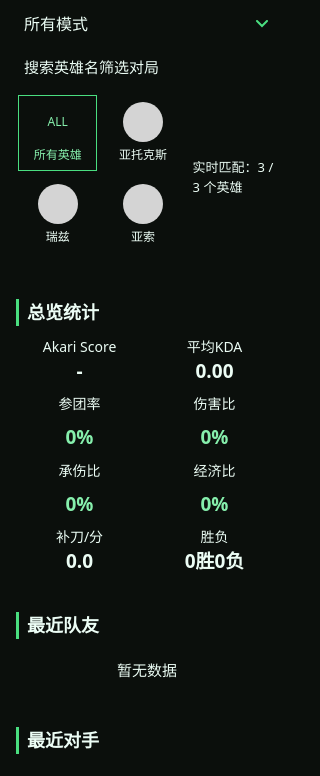
Test: SidebarPanel 英雄筛选磁贴墙 › 输入本名（亚托克斯）同样命中该英雄
The width and height of the screenshot is (320, 776).
Type "亚托克斯" into the field with class "champion-search" at [147, 67], box [16,50,278,84]
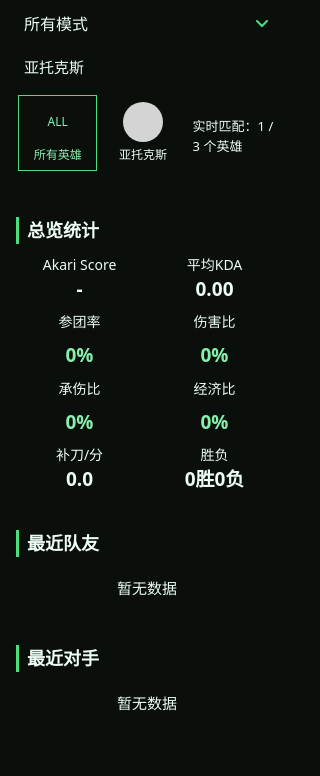
Expected: the elements with class "tile-label" read "所有英雄", "亚托克斯", in this order, [34,146,82,164]; [119,146,167,164]
